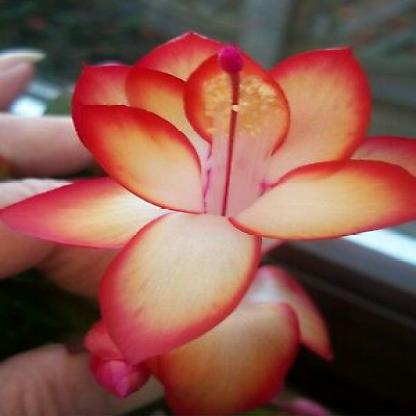Aglonema: (37, 19, 405, 327), (18, 293, 261, 416)
